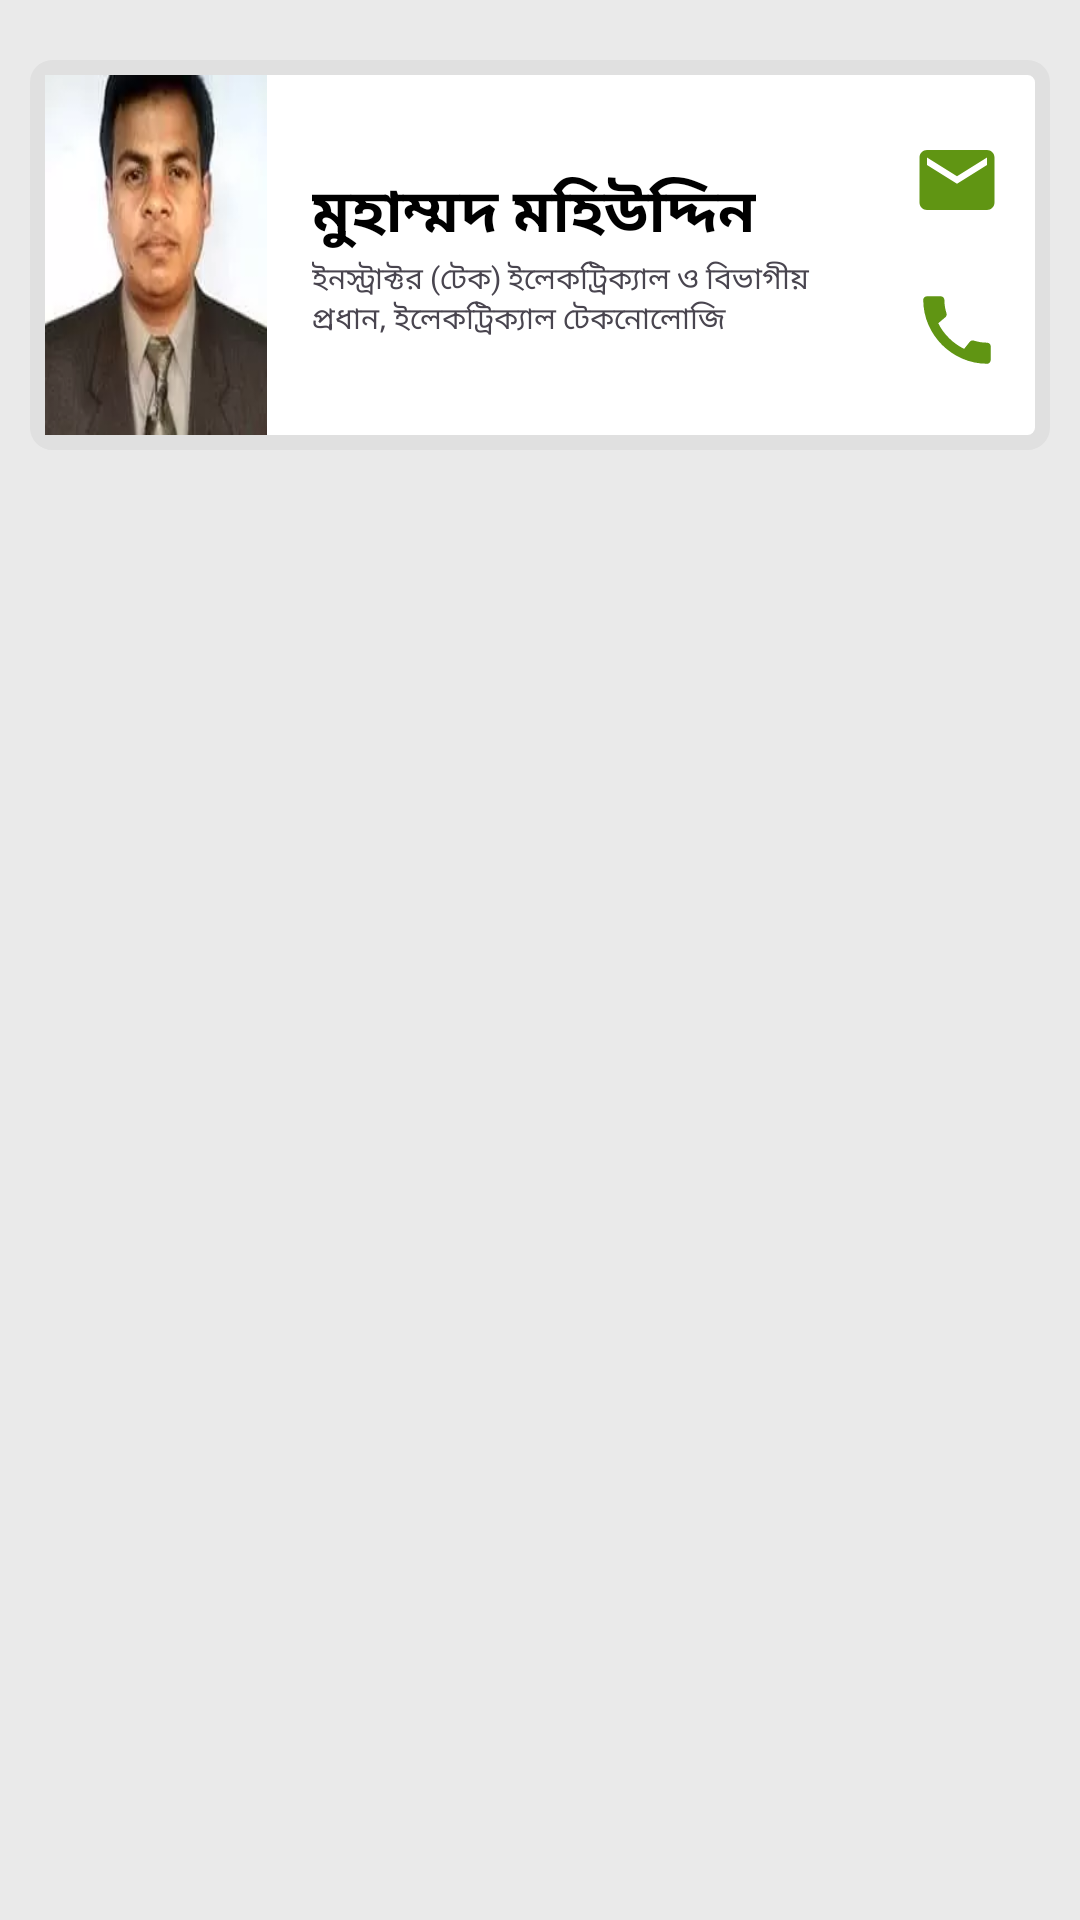

Where to tap for icons on this 1080px×1920px app screen, as (x=x, y=y):
call: (x=957, y=330)
email: (x=957, y=180)
